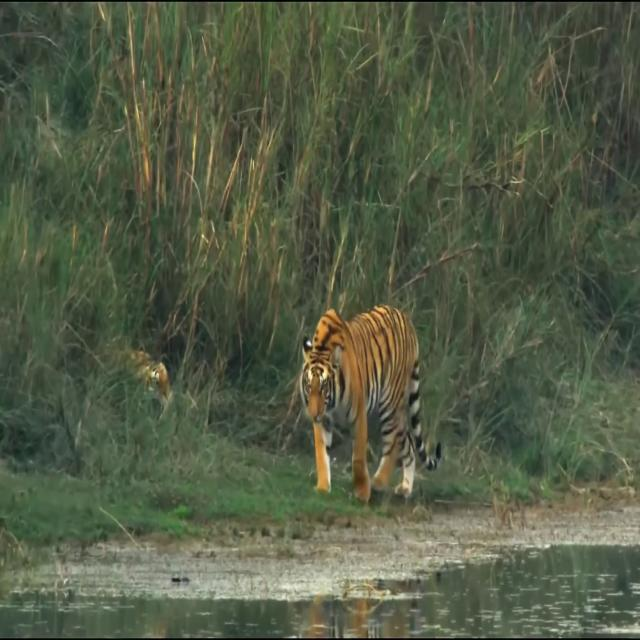tiger: (299, 303, 443, 502)
